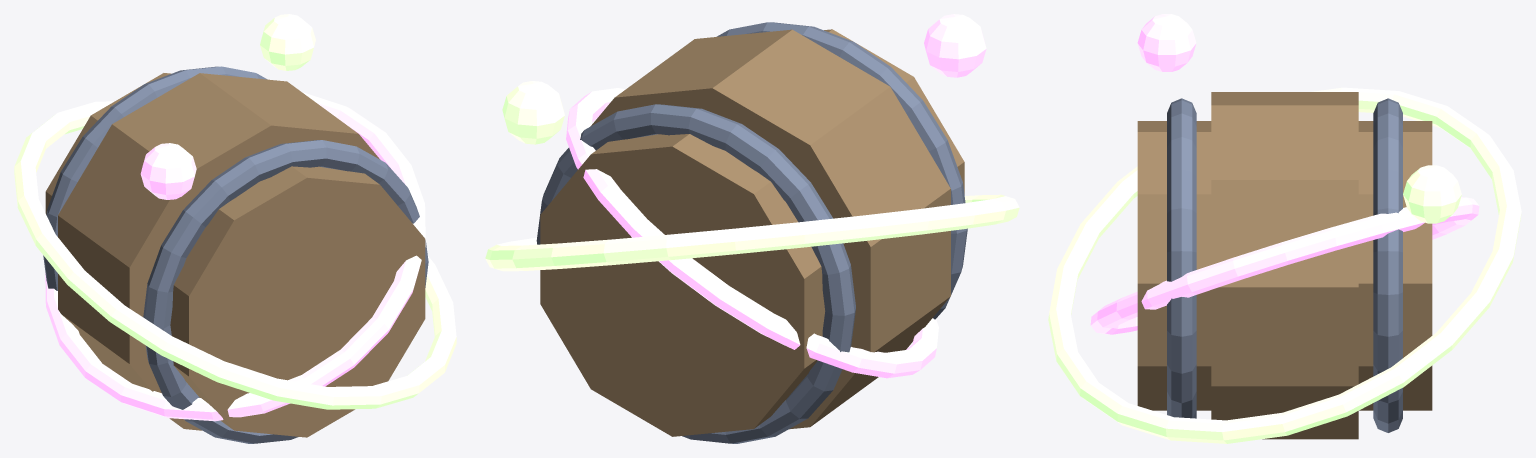
File: goblin_barrel.glb
3 renders of one model, left to right at view 1: azimuth 30°, elevation 25°; view 2: azimuth 150°, elevation 25°; view 3: azimuth 270°, elevation 25°, orthographic. The views are drawn at different scales.
Parts seen in each view (by area): view 1: goblin_barrel; view 2: goblin_barrel; view 3: goblin_barrel.
Boxes of the visible parts, box(x1,y1,x2,y2) form: goblin_barrel: box(14, 14, 456, 443); goblin_barrel: box(485, 14, 1019, 443); goblin_barrel: box(1048, 14, 1521, 443).
Size of the model in its own units: 1.6 by 1.3 by 1.6.
